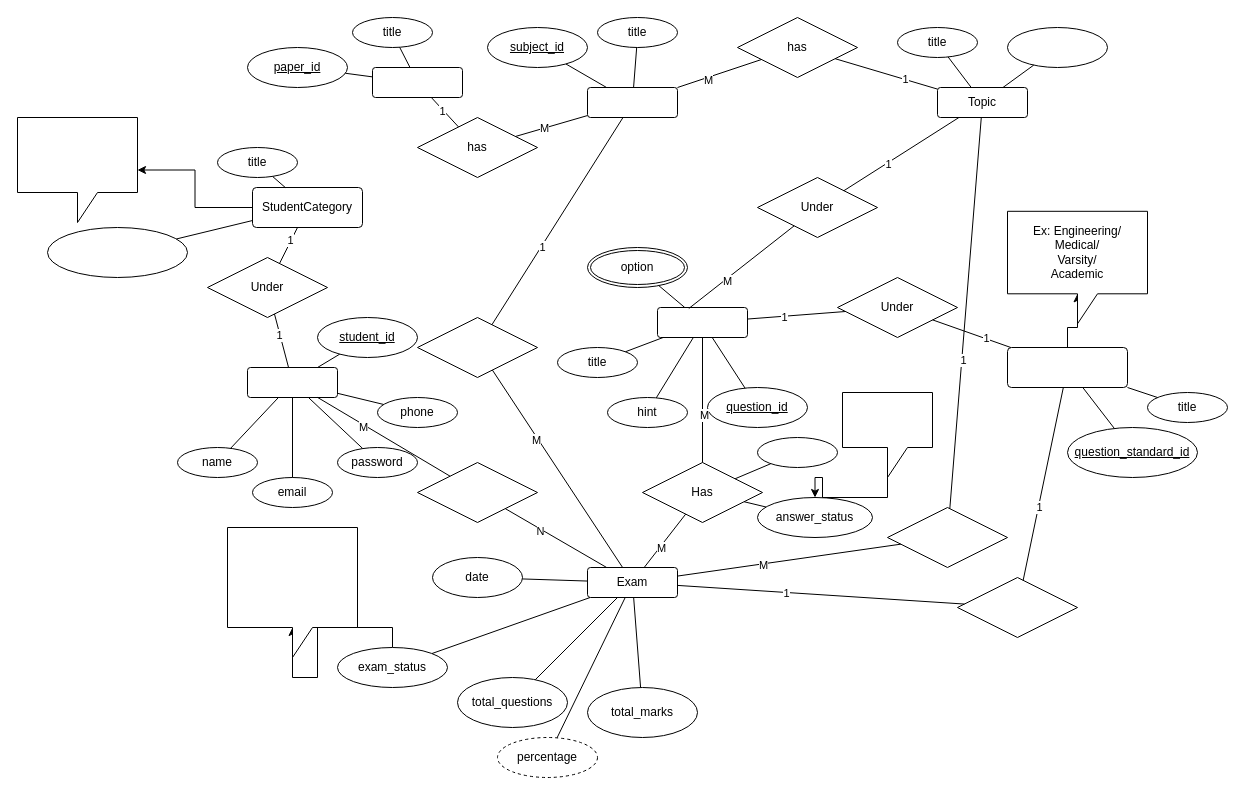
Some shapes in this 1245 by 795 pixel diagram are drawn without their labels. The box of each missing label's shape, as (x1, y1, x2, y2) in pixels:
bookmarks: (756, 436, 838, 468)
Ex: Correct/ Incorrect/ Skipped: (842, 392, 932, 478)
Ex: HSC-21/ HSC-22/ ADMISSION: (16, 116, 138, 222)
Ex: Practice/ Model Test/ Final Test/ Weekly Test/ Live Test: (226, 526, 358, 658)
Maintains: (956, 576, 1078, 638)
On: (886, 506, 1008, 568)
Paper: (372, 66, 462, 98)
Participate: (416, 462, 538, 522)
Question: (656, 306, 748, 338)
QuestionStandard: (1006, 346, 1128, 388)
Related: (416, 316, 538, 378)
Student: (246, 366, 338, 398)
stutdent_category_id: (46, 226, 188, 278)
Subject: (586, 86, 678, 118)
topic_id: (1006, 26, 1108, 68)
